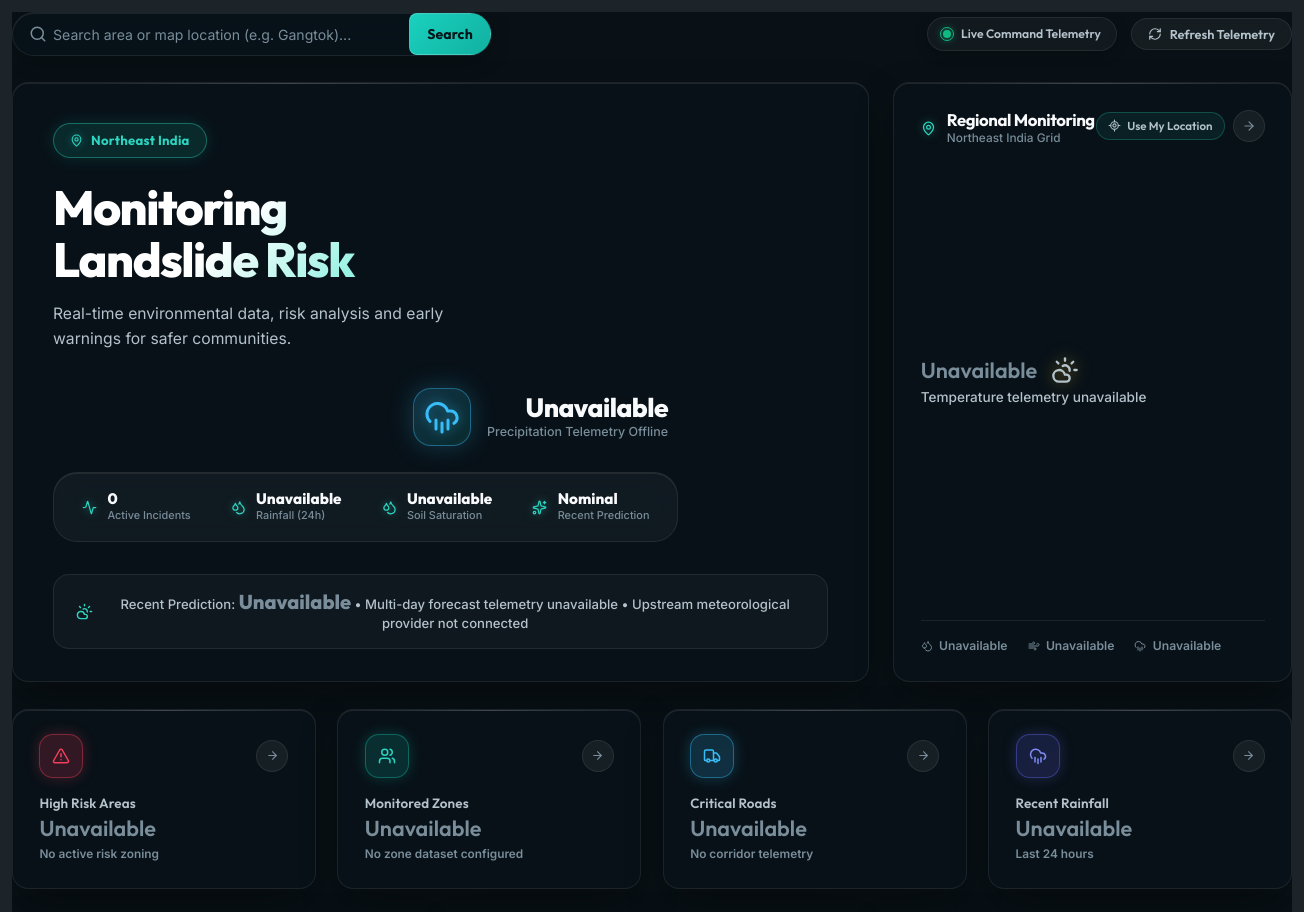
Dashboard Core Data Correctness › Use My Location in Regional Monitoring › allows resetting back to default regional monitoring
Click the button "Use My Location": (1160, 126) [1096, 112, 1225, 140]
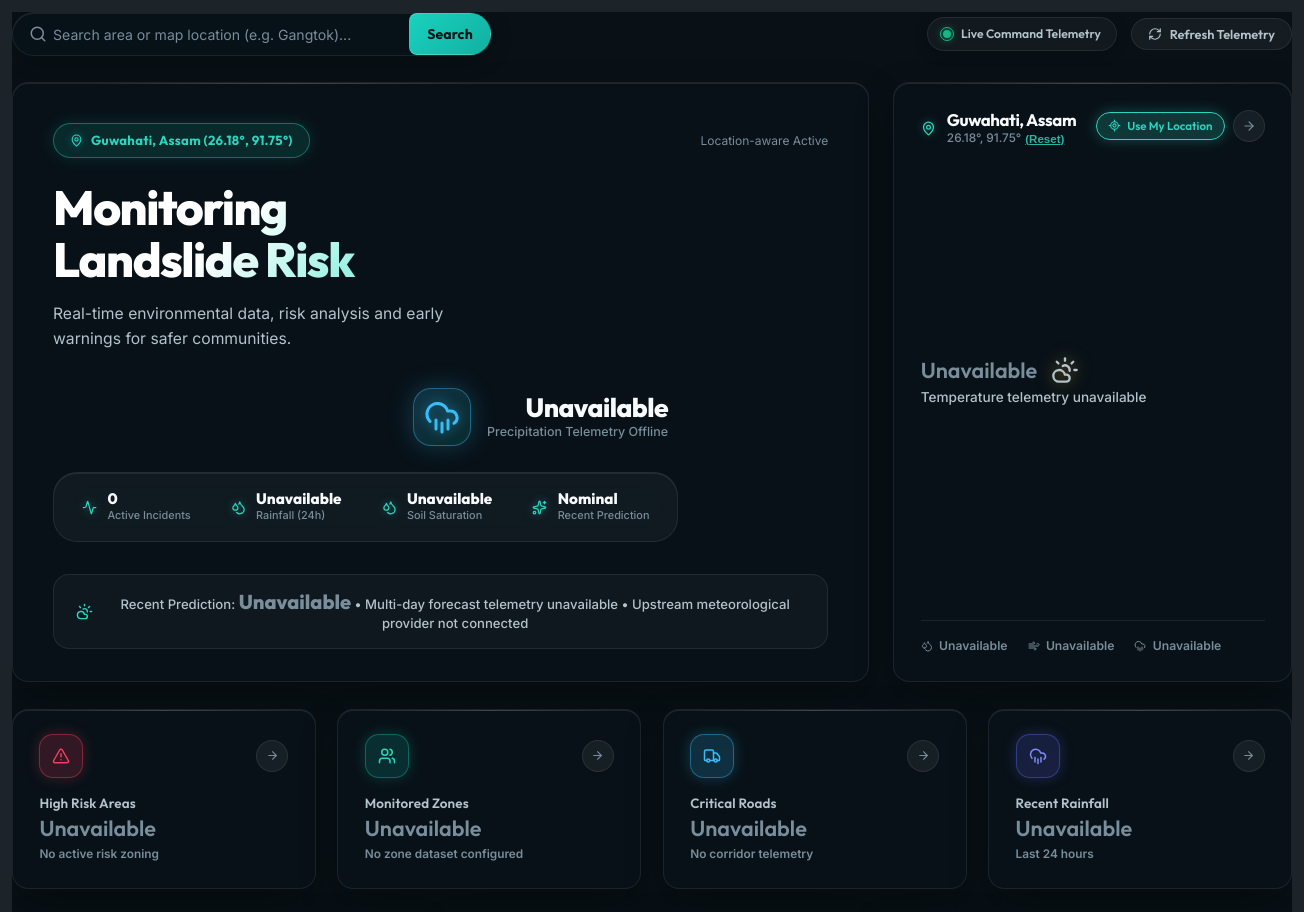
Expected: the button "(Reset)" is shown
Click the button "(Reset)": (1045, 139) [1025, 133, 1064, 145]
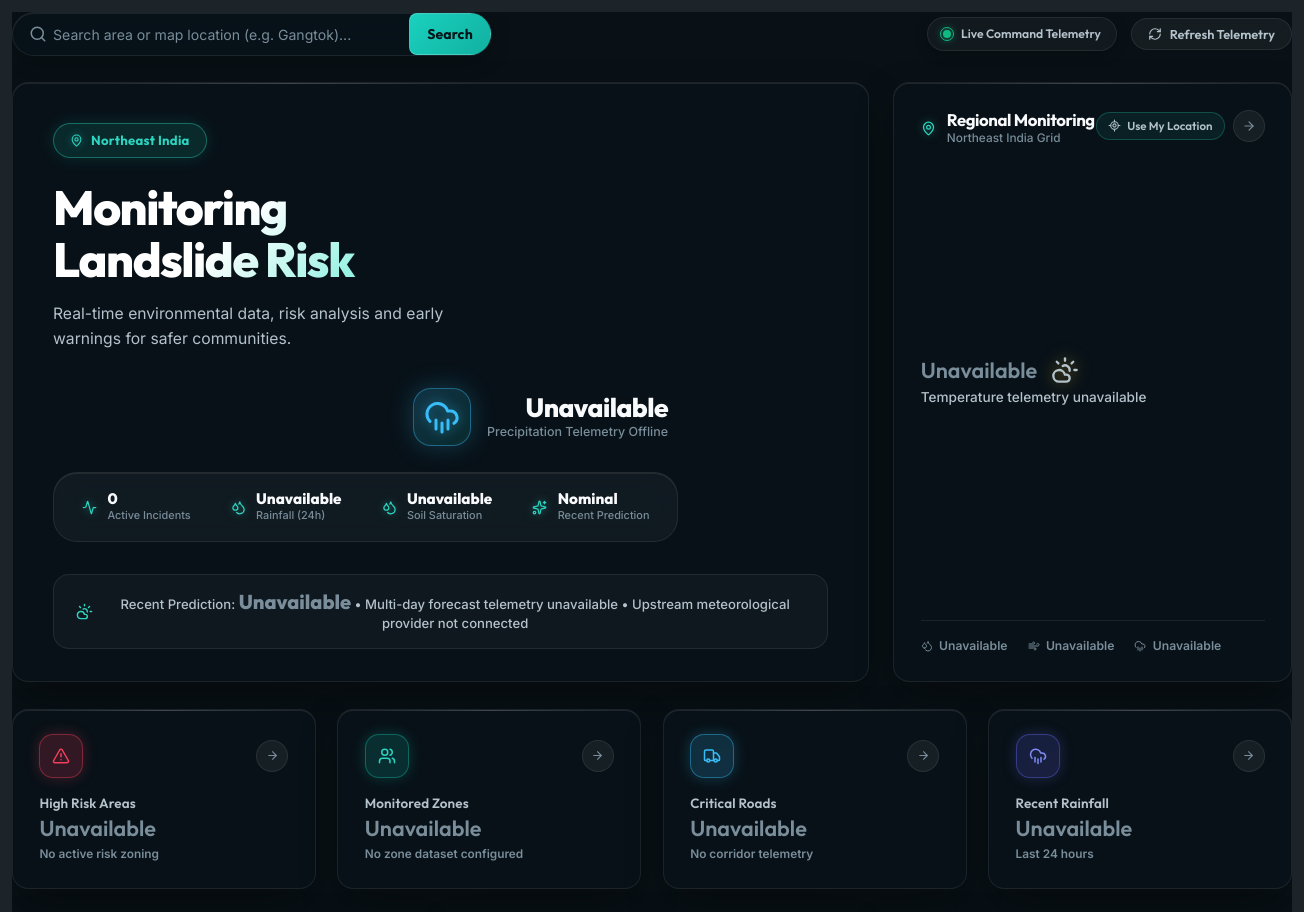
Expected: the text "Northeast India Grid" is shown, [947, 131, 1060, 145]
Expected: the button "(Reset)" is gone
